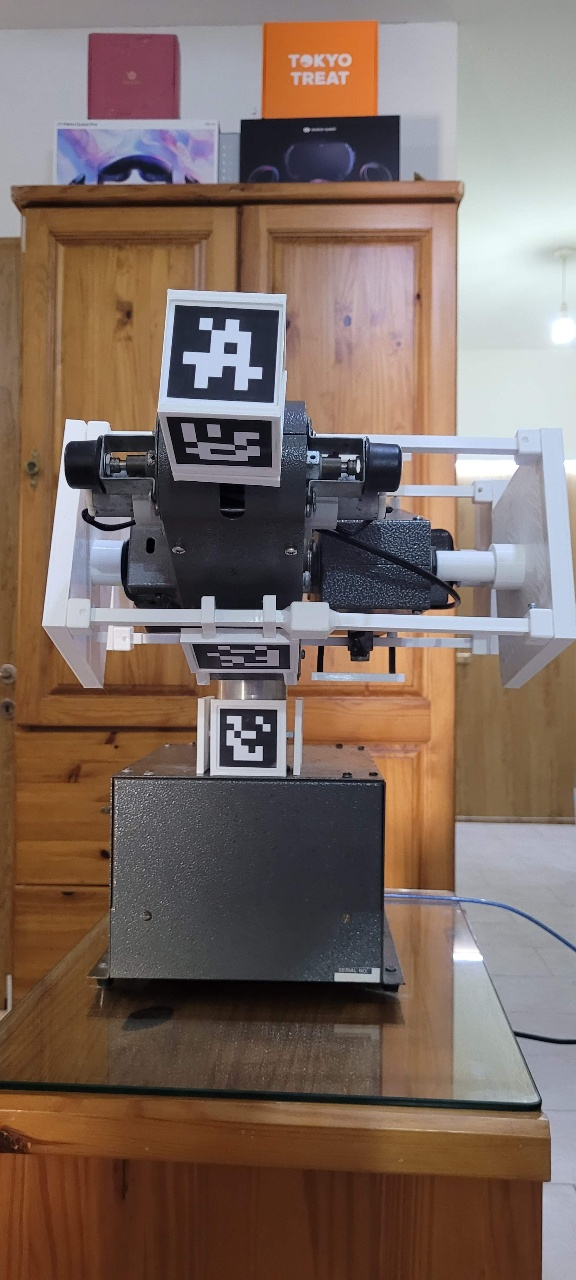Robot: (99, 123, 576, 1116)
